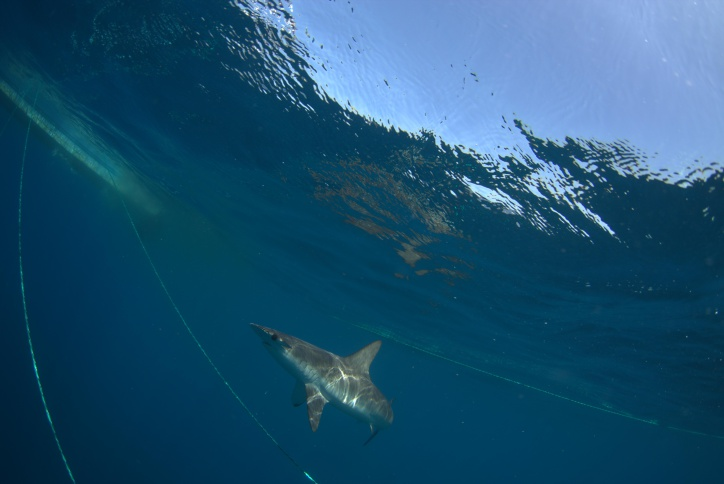Hammer: (245, 315, 402, 447)
